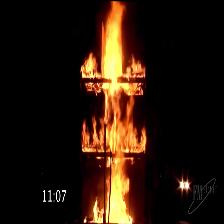fire: (98, 99, 136, 224), (97, 5, 129, 98)
